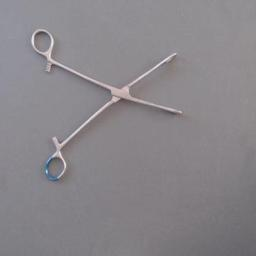Sponge Forceps: (26, 23, 188, 187)
